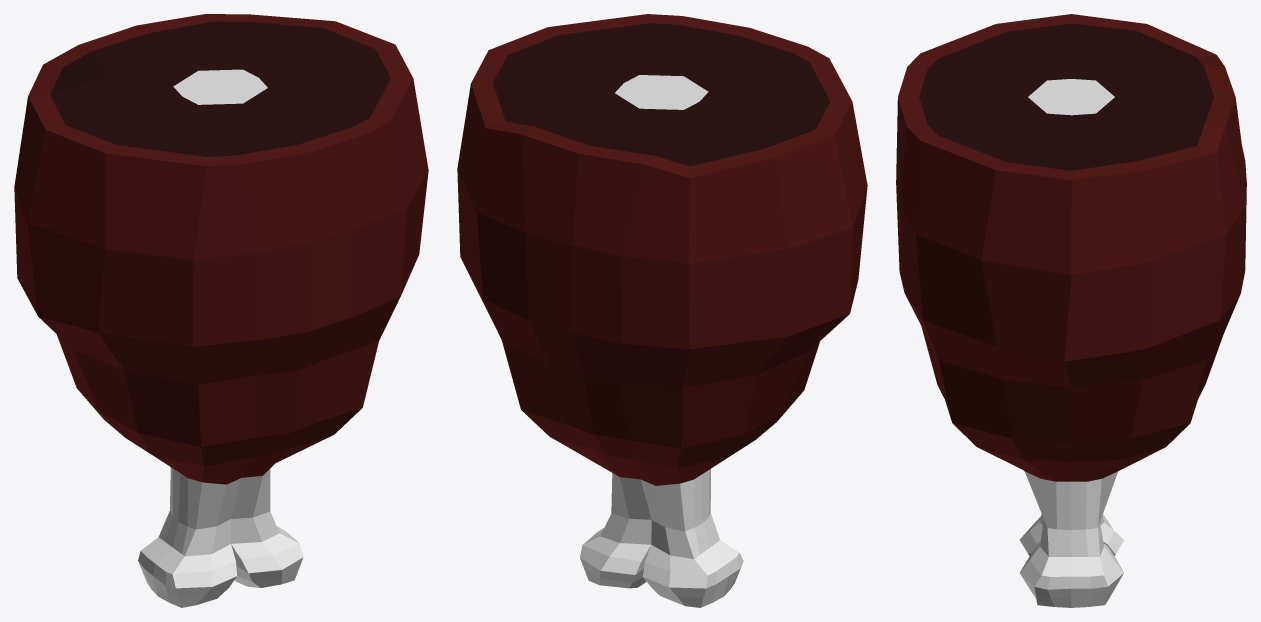
The model's file is carne.fbx.
3 views of the same model, side by side, from view 1: azimuth 30°, elevation 25°; view 2: azimuth 150°, elevation 25°; view 3: azimuth 270°, elevation 25° (orthographic). The views are drawn at different scales.
Visible parts, largest first — view 1: Cube; view 2: Cube; view 3: Cube.
Boxes of the visible parts, left/top/right/bottom form: Cube: left=14, top=14, right=428, bottom=607; Cube: left=457, top=14, right=867, bottom=607; Cube: left=896, top=14, right=1246, bottom=607.
Size of the model in its own units: 414 by 513 by 334.
